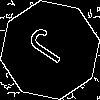J: (25, 25, 78, 72)
